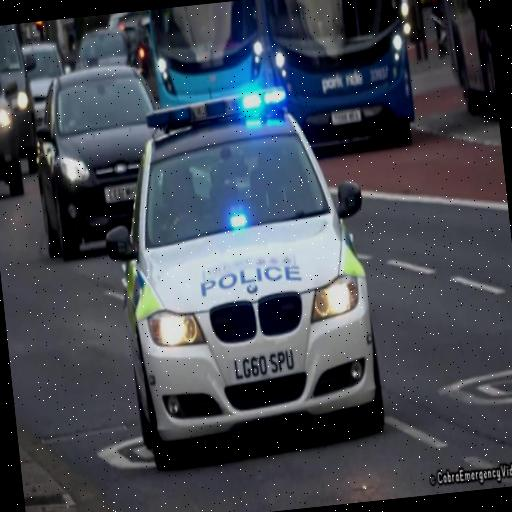Ambulance: (104, 82, 388, 462)
